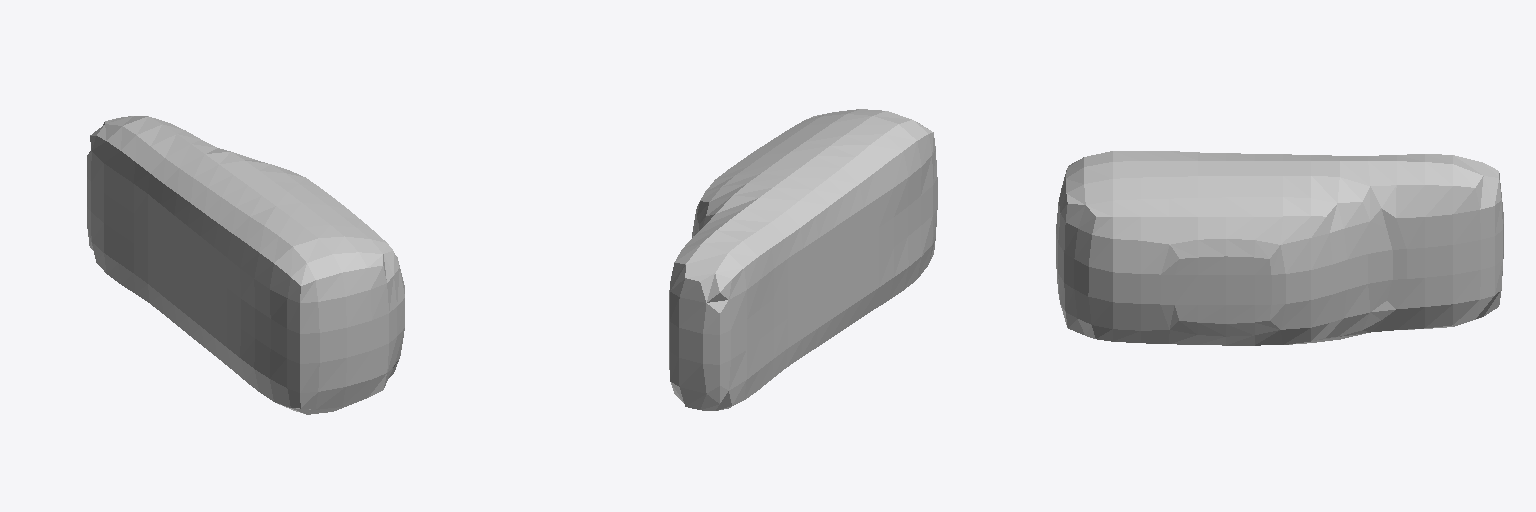
The model's file is fiat3_voxel.obj.
3 views of the same model, side by side, from view 1: azimuth 30°, elevation 25°; view 2: azimuth 150°, elevation 25°; view 3: azimuth 270°, elevation 25° (orthographic).
Visible parts, largest first — view 1: fiat2_test; view 2: fiat2_test; view 3: fiat2_test.
Part boxes in pixels (left/top/right/bottom): fiat2_test: left=87, top=116, right=404, bottom=414; fiat2_test: left=669, top=109, right=937, bottom=410; fiat2_test: left=1056, top=151, right=1503, bottom=345.
Size of the model in its own units: 1.43 by 1.63 by 3.88.